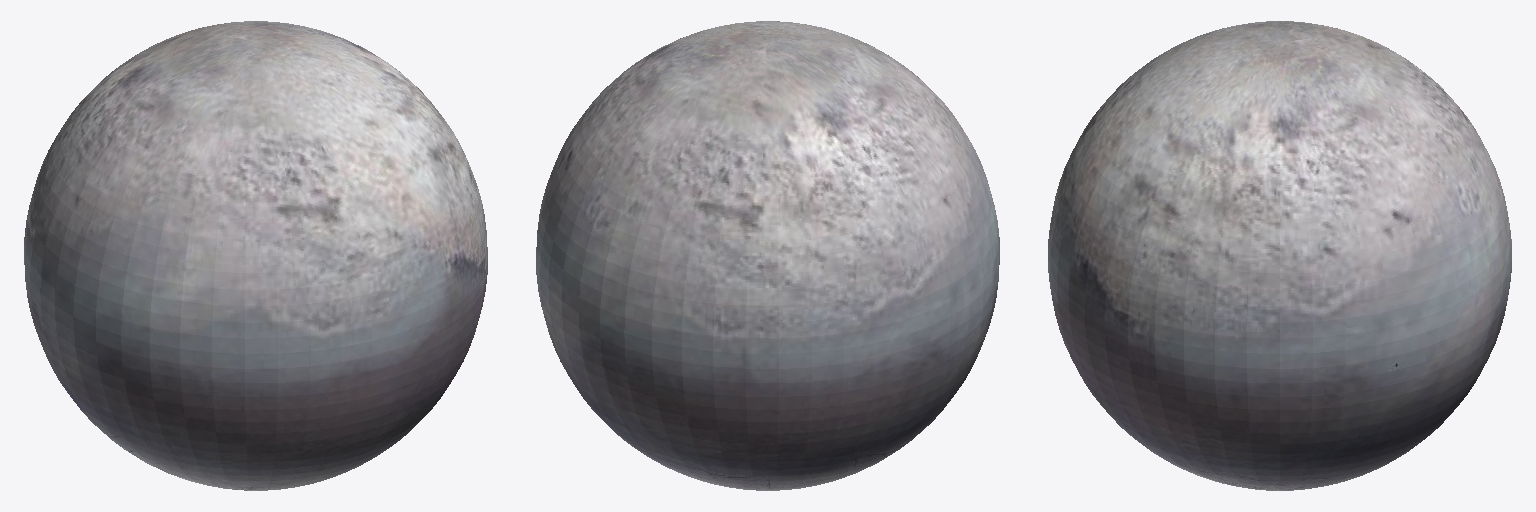
The picture shows the model from 3 angles: view 1: azimuth 30°, elevation 25°; view 2: azimuth 150°, elevation 25°; view 3: azimuth 270°, elevation 25°; orthographic projection.
Parts seen in each view (by area): view 1: triton; view 2: triton; view 3: triton.
Boxes of the visible parts, <box> form: triton: <box>24,21,487,490</box>; triton: <box>536,21,999,490</box>; triton: <box>1048,21,1511,490</box>.
Size of the model in its own units: 4.92 by 4.97 by 4.92.
Materials: 1 (1 with a texture image).